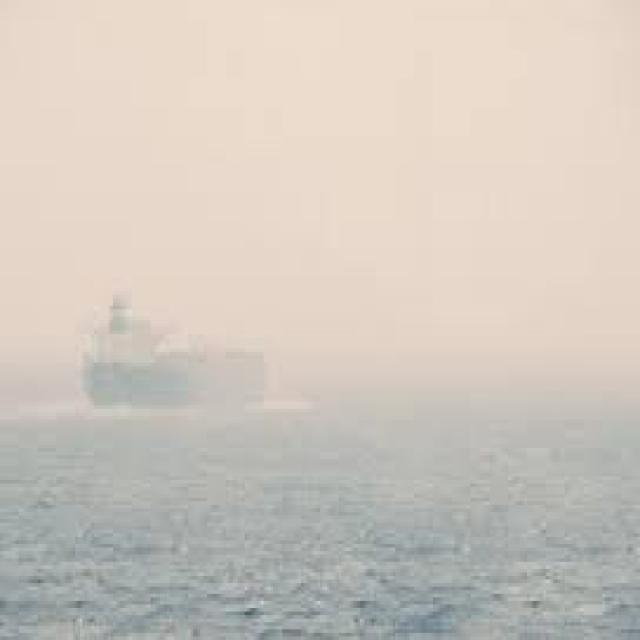cargoship: (88, 256, 283, 412)
